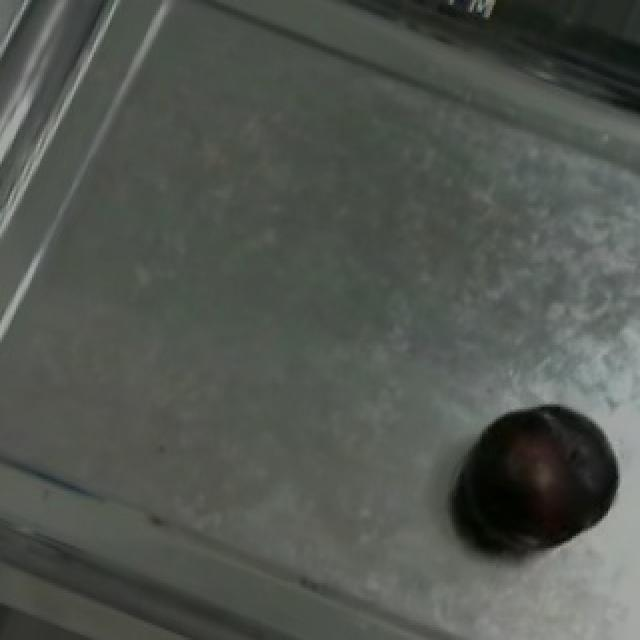Fruit: (450, 385, 636, 563)
